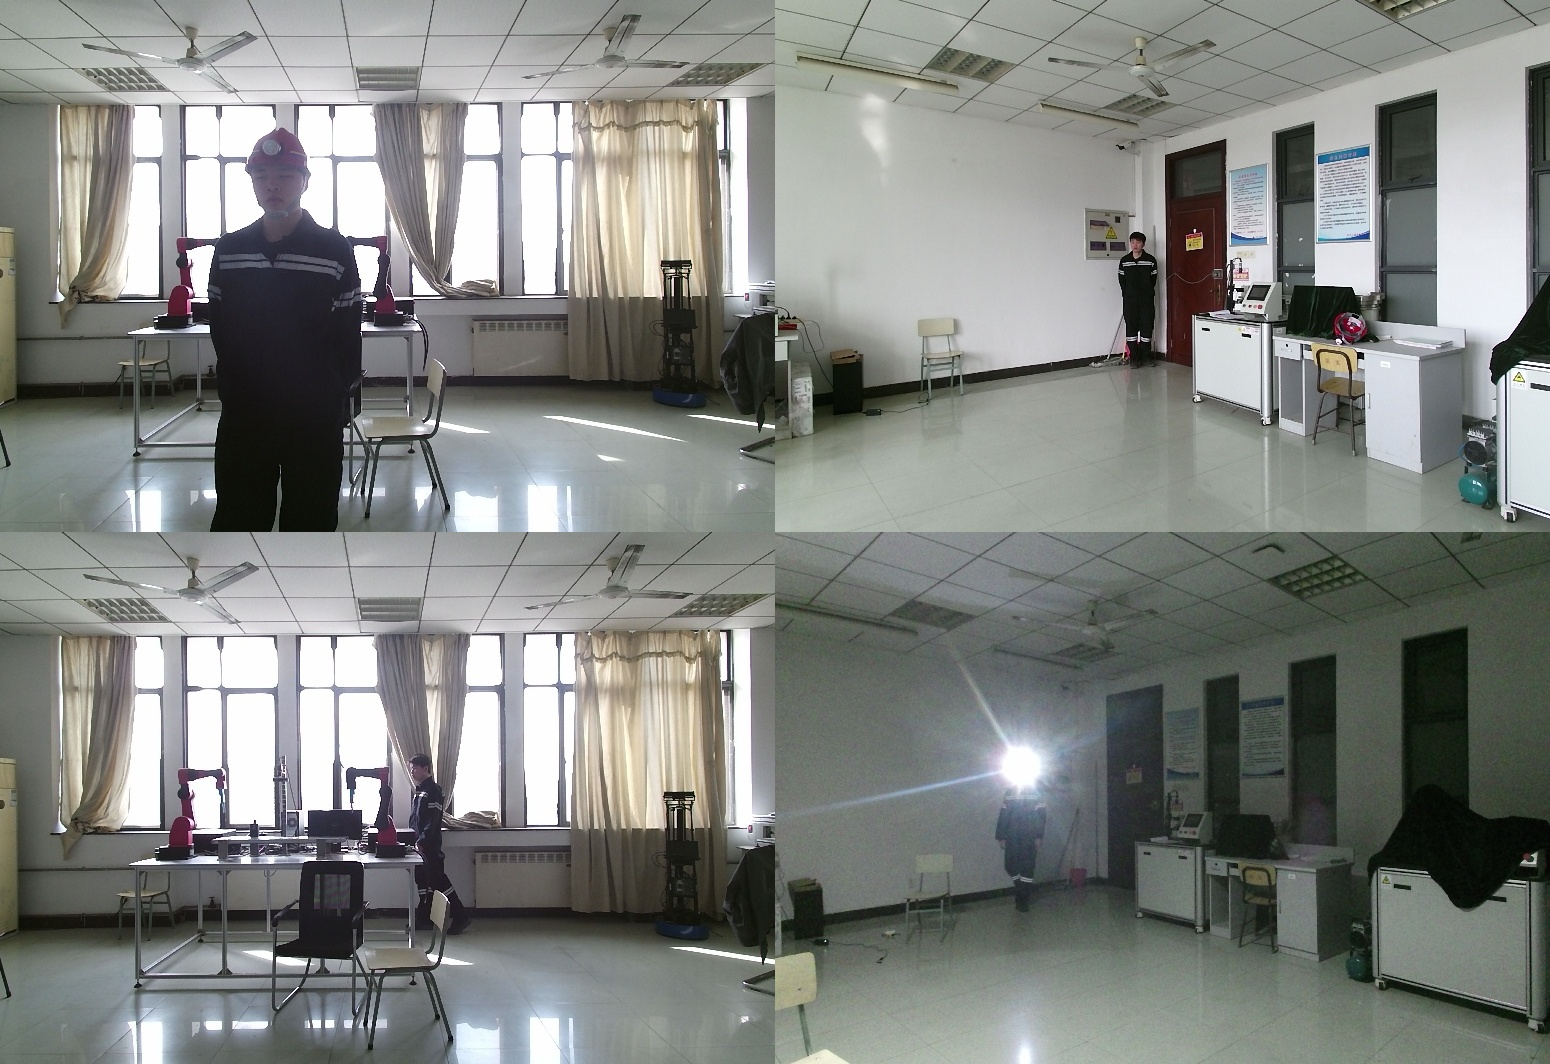person: (206, 128, 359, 532), (407, 752, 470, 939), (995, 762, 1050, 915), (1116, 232, 1161, 370)
